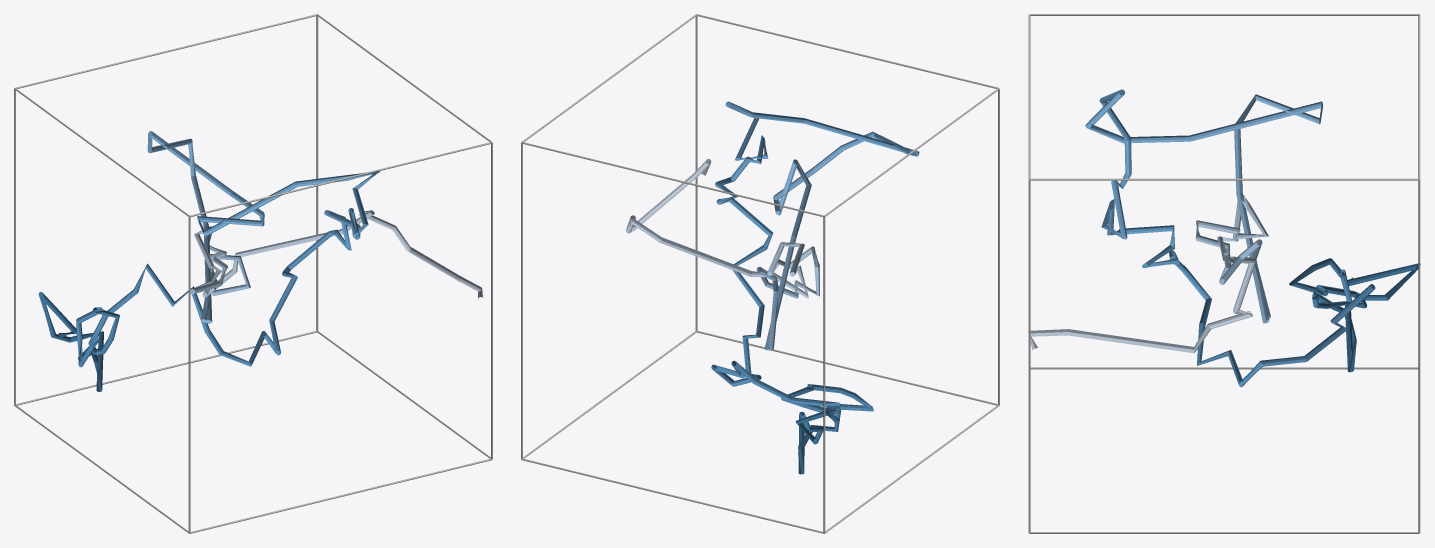
The model's file is BT20_early.glb.
The picture shows the model from 3 angles, left to right: view 1: azimuth 30°, elevation 25°; view 2: azimuth 150°, elevation 25°; view 3: azimuth 270°, elevation 25°; orthographic projection. The views are drawn at different scales.
Parts seen in each view (by area): view 1: geometry_0, geometry_1; view 2: geometry_0, geometry_1; view 3: geometry_0, geometry_1.
Part boxes in pixels (left/top/right/bottom): geometry_0: left=38, top=131, right=482, bottom=391; geometry_1: left=14, top=14, right=492, bottom=533; geometry_0: left=626, top=101, right=919, bottom=474; geometry_1: left=521, top=14, right=999, bottom=533; geometry_0: left=1028, top=89, right=1420, bottom=386; geometry_1: left=1028, top=14, right=1420, bottom=533.
Size of the model in its own units: 0.3016 by 0.3014 by 0.3022.
